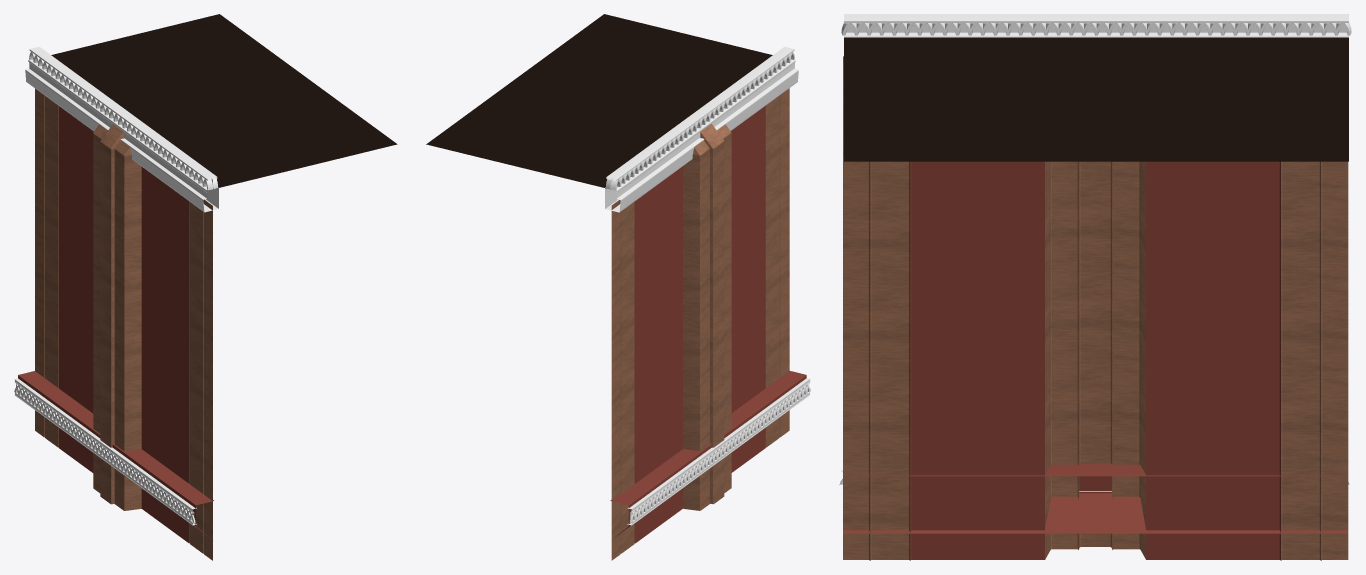
File: Geonosis_Gallery01_Tall.fbx
3 views of the same model, side by side, from view 1: azimuth 30°, elevation 25°; view 2: azimuth 150°, elevation 25°; view 3: azimuth 270°, elevation 25° (orthographic). The views are drawn at different scales.
Visible parts, largest first — view 1: Geonosis_Gallery01_Tall; view 2: Geonosis_Gallery01_Tall; view 3: Geonosis_Gallery01_Tall.
Boxes of the visible parts, <box> form: Geonosis_Gallery01_Tall: <box>14,14,397,560</box>; Geonosis_Gallery01_Tall: <box>426,14,810,560</box>; Geonosis_Gallery01_Tall: <box>839,14,1351,560</box>.
Bounding box in the file's own units: 666 × 1185 × 1014.
